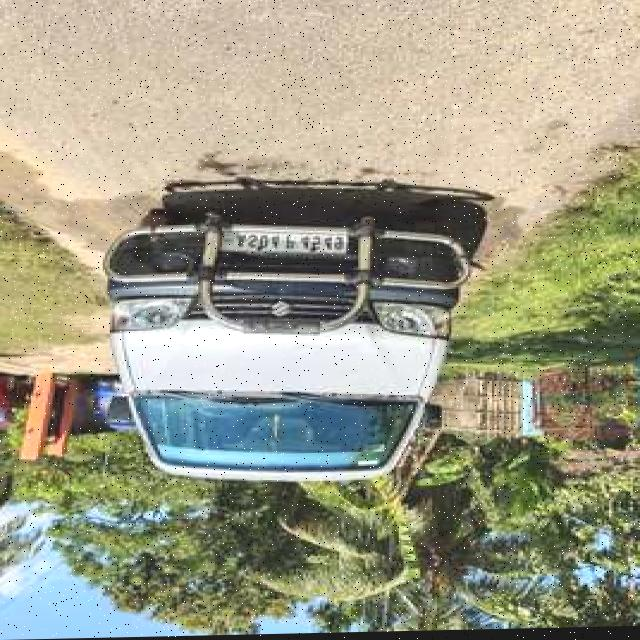plate: (218, 227, 352, 257)
